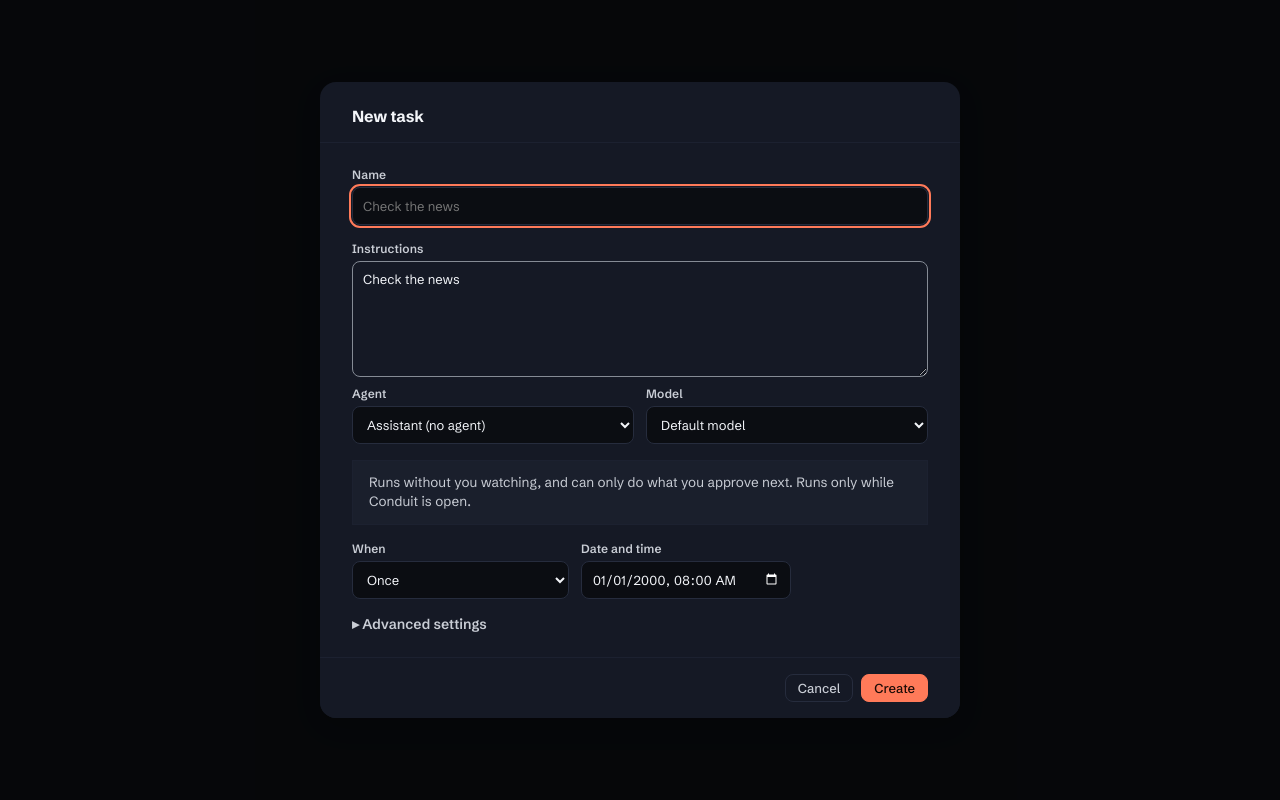
Scenario: TaskDialog › refuses a one-time task in the past
Click the button "Create": click(895, 688) [861,674,928,702]
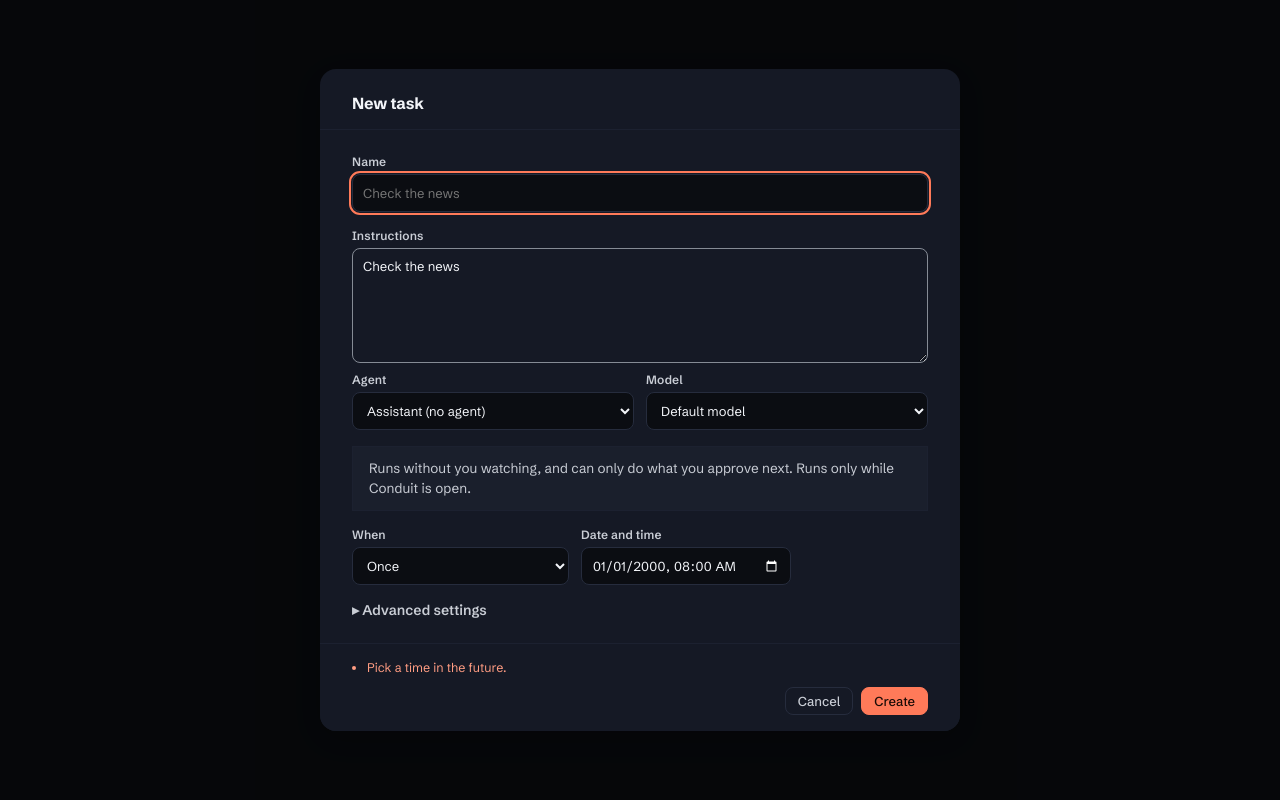
Expected: the list item "Pick a time in the future." is shown, [367,660,507,675]
